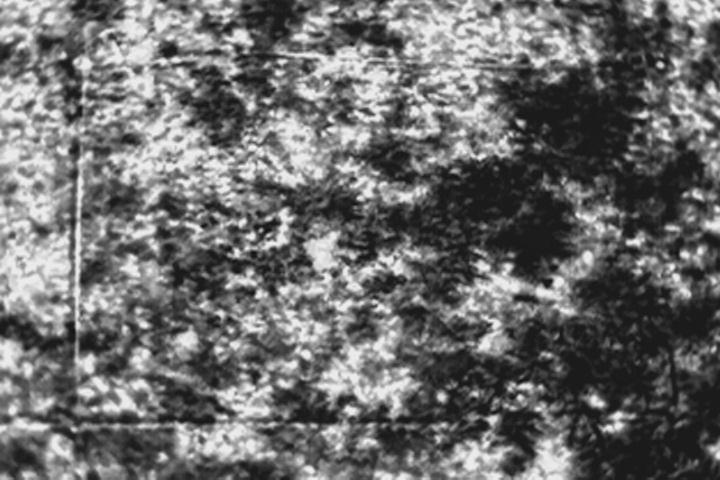landmine: (304, 232, 342, 273)
